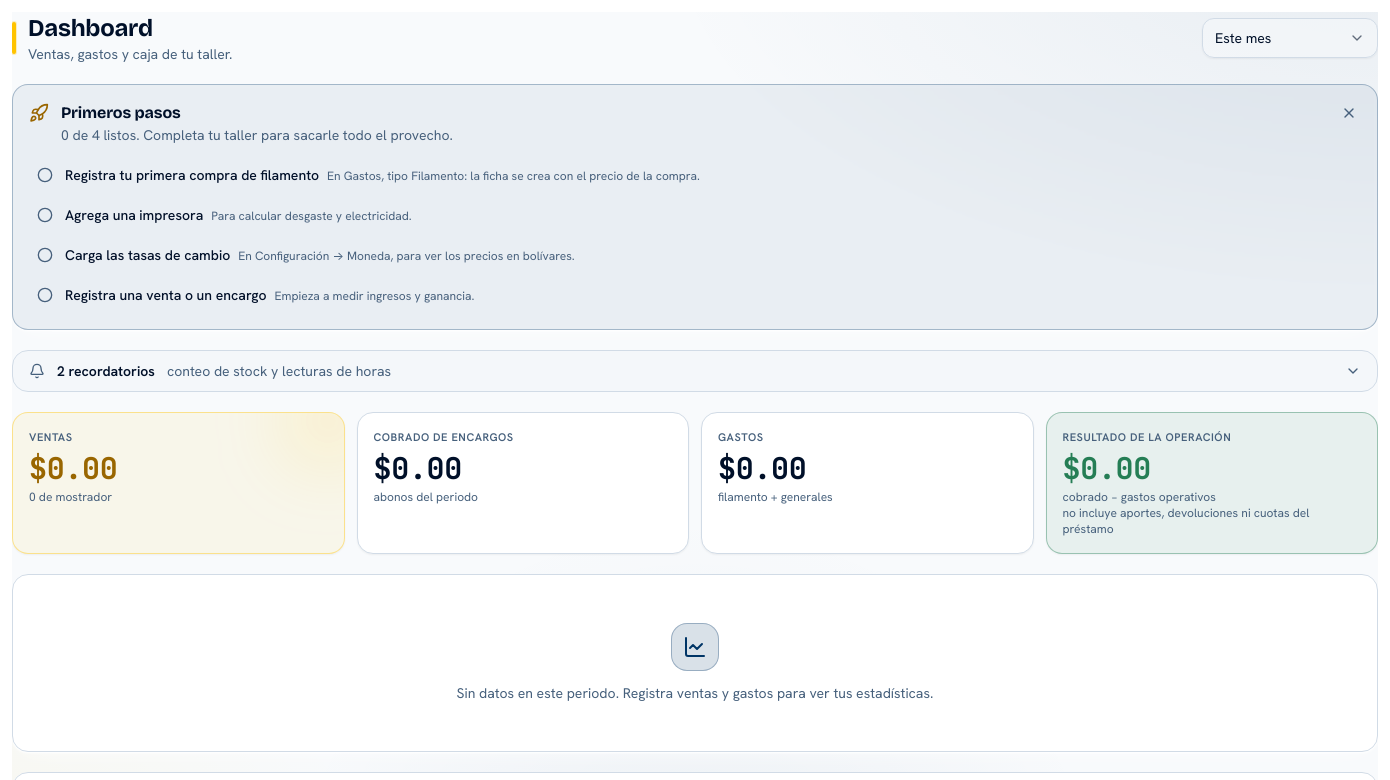
Los dos recordatorios se colapsan en un renglón › al tocarlo se despliegan los dos, con sus textos y enlaces intactos
The image size is (1390, 780).
Expected: the text "Sin datos en este periodo" is shown, [457,684,933,702]
Click the button "2 recordatorios conteo de stock y lecturas de horas" at coordinates (110, 371), box [12,350,1378,392]
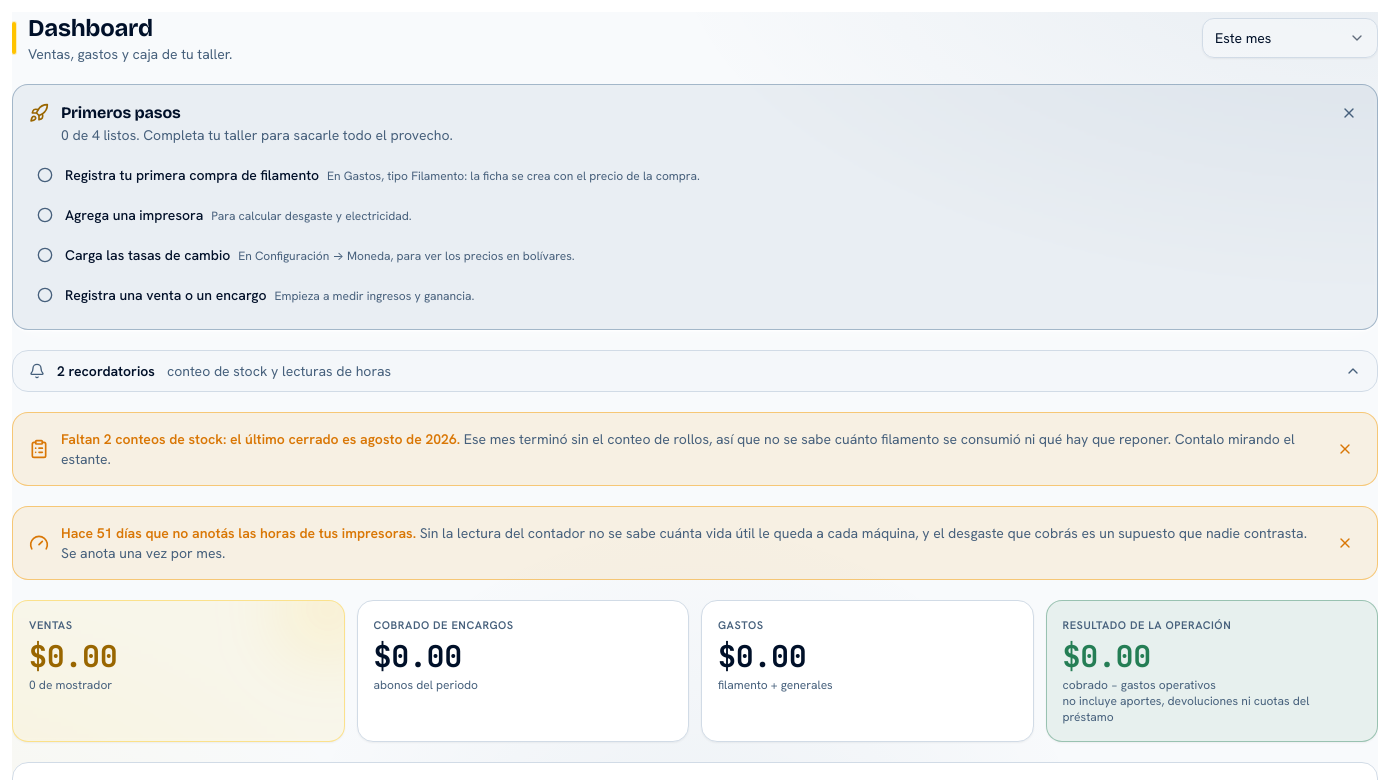
Now the text "Faltan 2 conteos de stock" is shown, box [61,430,460,448]
Now the text "Hace 51 días que no anotás las horas de tus impresoras." is shown, box [61,524,416,542]
Now the button "2 recordatorios conteo de stock y lecturas de horas" is expanded, box [12,350,1378,392]
